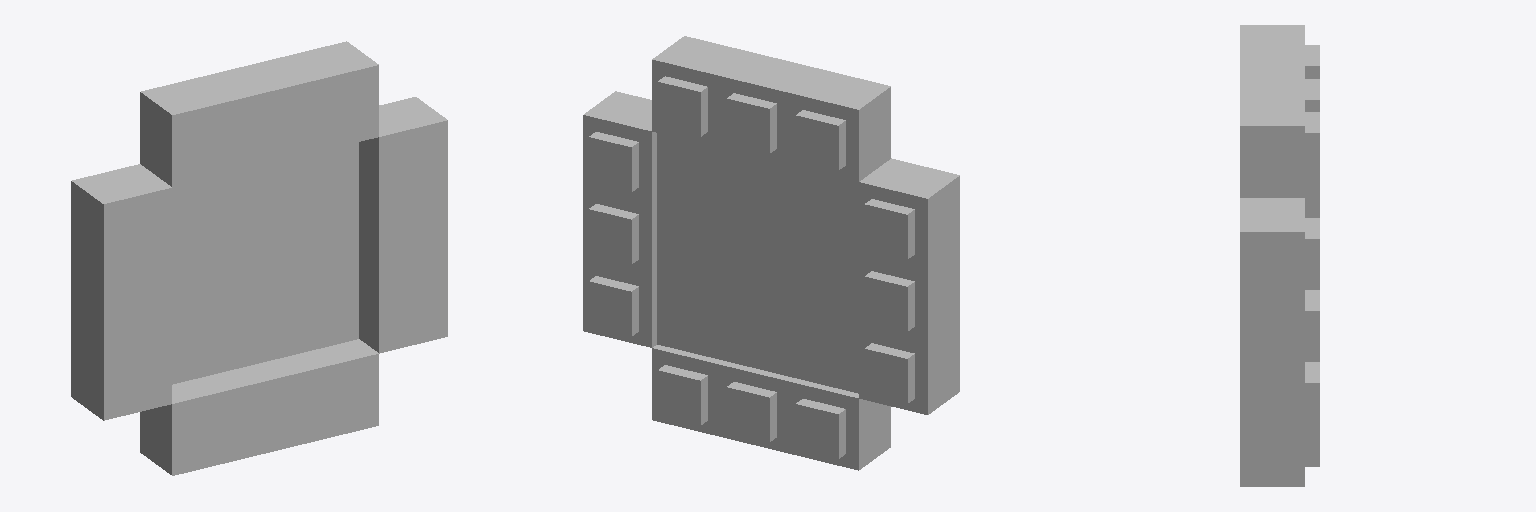
The model's file is portal_end_track.obj.
3 renders of one model, left to right at view 1: azimuth 30°, elevation 25°; view 2: azimuth 150°, elevation 25°; view 3: azimuth 270°, elevation 25°, orthographic.
Parts seen in each view (by area): view 1: cube; view 2: cube; view 3: cube.
Boxes of the visible parts, <box> form: cube: <box>71,41,447,475</box>; cube: <box>583,36,959,470</box>; cube: <box>1240,25,1319,486</box>.
Size of the model in its own units: 5 by 5 by 1.